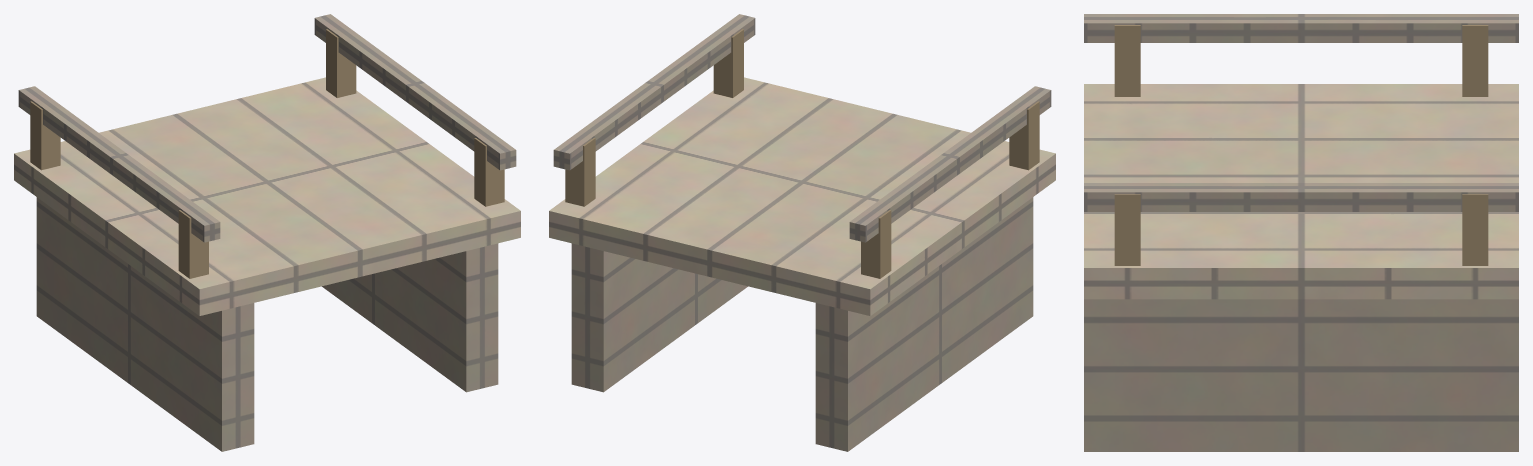
Rendered from bridge.glb.
3 renders of one model, left to right at view 1: azimuth 30°, elevation 25°; view 2: azimuth 150°, elevation 25°; view 3: azimuth 270°, elevation 25°, orthographic. The views are drawn at different scales.
Visible parts, largest first — view 1: bridge deck, bridge beam 1, bridge beam 2, bridge rail 2, bridge rail 1, bridge post 1 a, bridge post 2 a, bridge post 1 b, bridge post 2 b; view 2: bridge deck, bridge beam 1, bridge beam 2, bridge rail 2, bridge rail 1, bridge post 1 b, bridge post 2 b, bridge post 1 a, bridge post 2 a; view 3: bridge deck, bridge beam 2, bridge rail 2, bridge rail 1, bridge post 1 a, bridge post 1 b, bridge post 2 a, bridge post 2 b.
Boxes of the visible parts, x1,y1,x2,y2 form: bridge deck: [14, 77, 520, 315]; bridge beam 1: [36, 197, 254, 451]; bridge beam 2: [322, 243, 498, 392]; bridge rail 2: [314, 14, 516, 170]; bridge rail 1: [18, 86, 220, 242]; bridge post 1 a: [178, 210, 208, 278]; bridge post 2 a: [474, 138, 504, 206]; bridge post 1 b: [30, 101, 60, 170]; bridge post 2 b: [326, 29, 356, 97]; bridge deck: [549, 77, 1055, 315]; bridge beam 1: [815, 197, 1033, 451]; bridge beam 2: [571, 243, 747, 392]; bridge rail 2: [553, 14, 755, 170]; bridge rail 1: [849, 86, 1051, 242]; bridge post 1 b: [861, 210, 891, 278]; bridge post 2 b: [565, 138, 595, 206]; bridge post 1 a: [1009, 101, 1039, 170]; bridge post 2 a: [713, 29, 743, 97]; bridge deck: [1084, 84, 1518, 299]; bridge beam 2: [1084, 299, 1518, 451]; bridge rail 2: [1084, 183, 1518, 211]; bridge rail 1: [1084, 14, 1518, 42]; bridge post 1 a: [1114, 25, 1140, 96]; bridge post 1 b: [1462, 25, 1488, 96]; bridge post 2 a: [1114, 194, 1140, 265]; bridge post 2 b: [1462, 194, 1488, 265].
Size of the model in its own units: 1 by 0.685 by 1.
6 materials, 2 textured.
